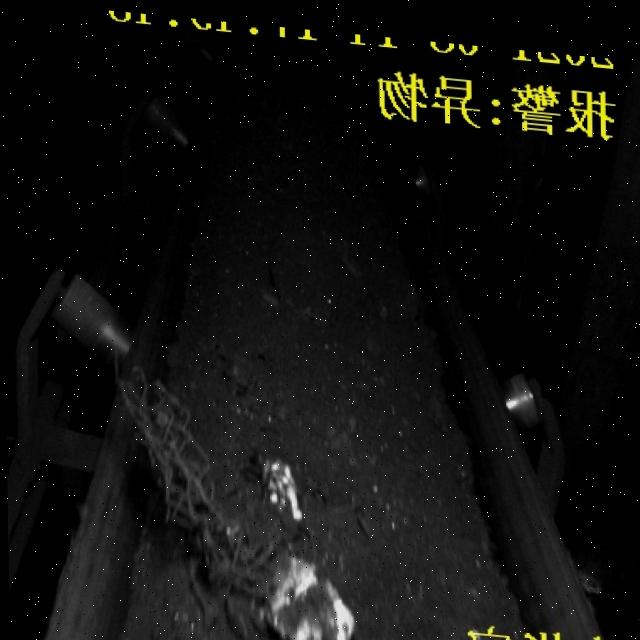Other_garbage: (111, 361, 280, 640)
large_sized_coal: (262, 539, 357, 640)
